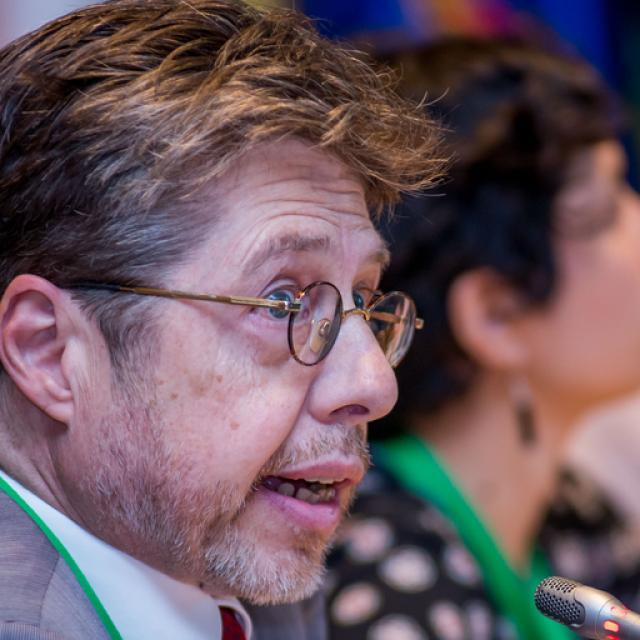surprise: (108, 120, 402, 608)
